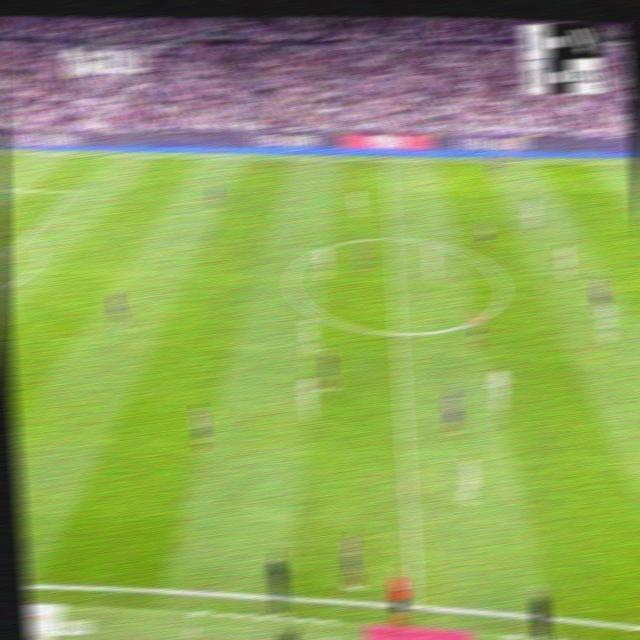bigarea_top_inner: (67, 184, 80, 199)
halfcircle_bottom: (388, 320, 407, 346)
halfcircle_top: (383, 225, 402, 249)
midline_bottom_intersection: (403, 588, 426, 618)
midline_top_intersection: (380, 152, 395, 168)
top_arc_area_intersection: (21, 227, 34, 241)
